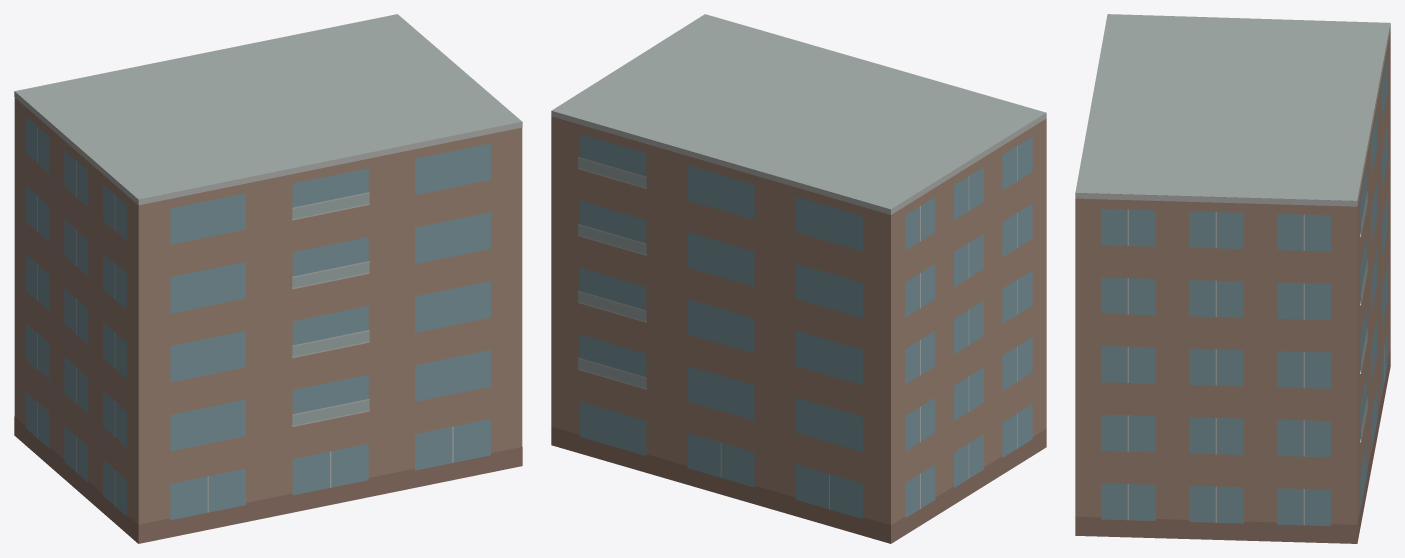
The model's file is survey-upis-32841089.glb.
The picture shows the model from 3 angles, left to right: view 1: azimuth 30°, elevation 25°; view 2: azimuth 150°, elevation 25°; view 3: azimuth 270°, elevation 25°; orthographic projection. The views are drawn at different scales.
Visible parts, largest first — view 1: survey-upis-32841089.tmp; view 2: survey-upis-32841089.tmp; view 3: survey-upis-32841089.tmp.
Boxes of the visible parts, <box> form: survey-upis-32841089.tmp: <box>14,14,522,543</box>; survey-upis-32841089.tmp: <box>551,14,1046,543</box>; survey-upis-32841089.tmp: <box>1075,14,1390,543</box>.
Size of the model in its own units: 16.96 by 14.5 by 12.09.
